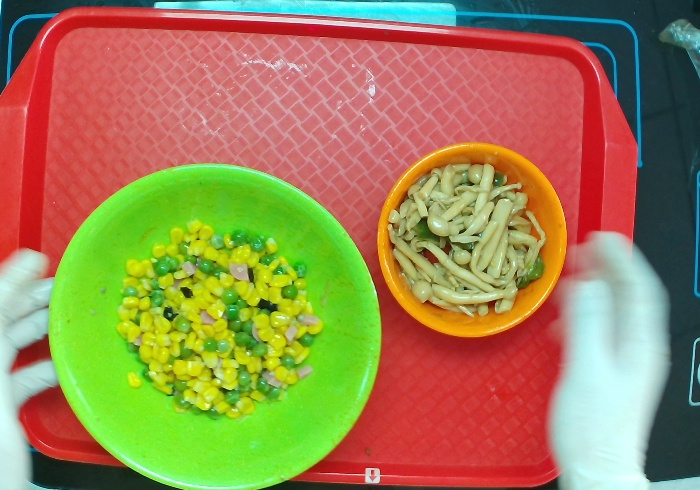YKMZ-Ju_Se_Yuan_Wan: (367, 136, 574, 346)
YKMZ-Lv_Se_Tang_Wan: (44, 150, 385, 490)
